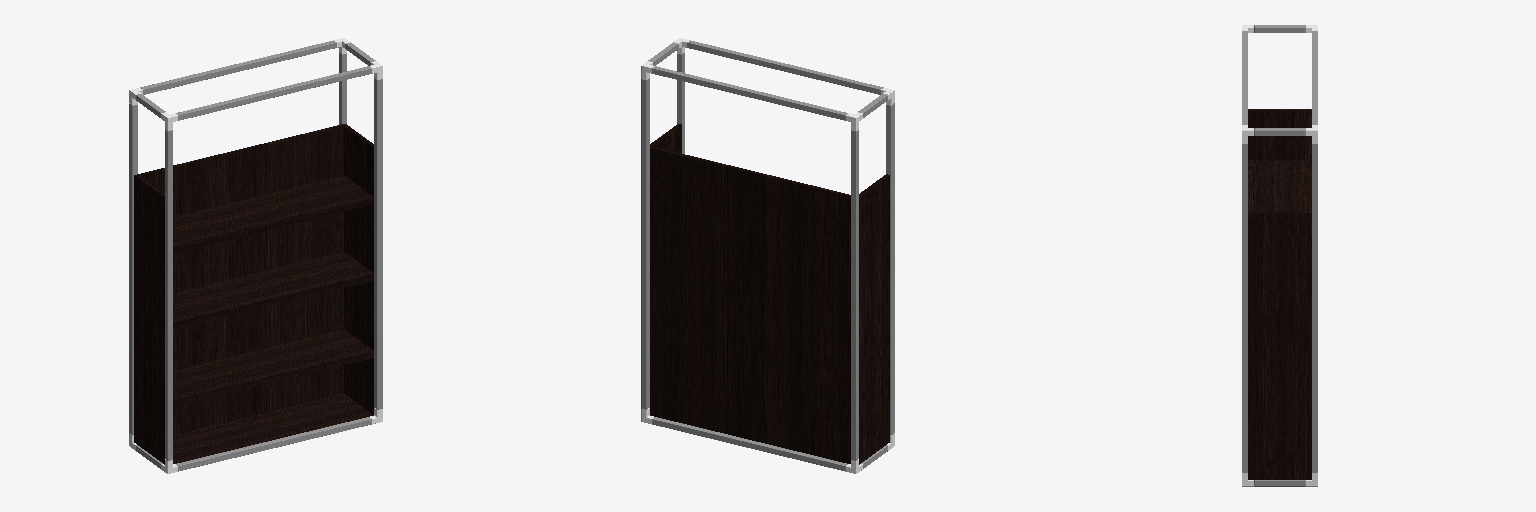
The picture shows the model from 3 angles: view 1: azimuth 30°, elevation 25°; view 2: azimuth 150°, elevation 25°; view 3: azimuth 270°, elevation 25°; orthographic projection.
Visible parts, largest first — view 1: ligneroset_dedicato_shelving_unit_120_mat_3__1, ligneroset_dedicato_shelving_unit_120_mat_3__2, ligneroset_dedicato_shelving_unit_120_mat_3__3; view 2: ligneroset_dedicato_shelving_unit_120_mat_3__1, ligneroset_dedicato_shelving_unit_120_mat_3__2, ligneroset_dedicato_shelving_unit_120_mat_3__3; view 3: ligneroset_dedicato_shelving_unit_120_mat_3__1, ligneroset_dedicato_shelving_unit_120_mat_3__2, ligneroset_dedicato_shelving_unit_120_mat_3__3.
Part boxes in pixels (x1,y1,x2,y2): ligneroset_dedicato_shelving_unit_120_mat_3__1: (134, 124, 373, 464); ligneroset_dedicato_shelving_unit_120_mat_3__2: (129, 40, 382, 471); ligneroset_dedicato_shelving_unit_120_mat_3__3: (129, 38, 382, 473); ligneroset_dedicato_shelving_unit_120_mat_3__1: (650, 124, 889, 464); ligneroset_dedicato_shelving_unit_120_mat_3__2: (641, 40, 894, 471); ligneroset_dedicato_shelving_unit_120_mat_3__3: (641, 38, 894, 473); ligneroset_dedicato_shelving_unit_120_mat_3__1: (1248, 109, 1311, 479); ligneroset_dedicato_shelving_unit_120_mat_3__2: (1242, 25, 1317, 486); ligneroset_dedicato_shelving_unit_120_mat_3__3: (1242, 25, 1317, 486).
Size of the model in its own units: 1.2 by 1.9 by 0.37.
3 materials, 1 textured.